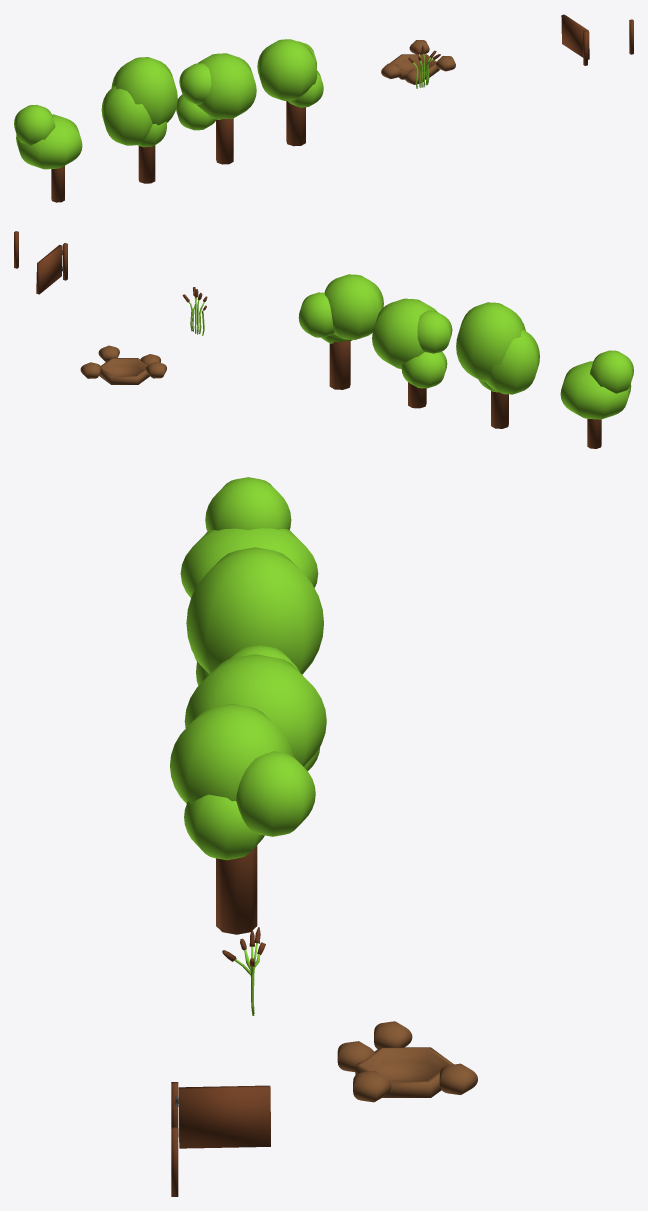
File: reed 1.fbx
3 views of the same model, one above another, from view 1: azimuth 30°, elevation 25°; view 2: azimuth 150°, elevation 25°; view 3: azimuth 270°, elevation 25° (orthographic). The views are drawn at different scales.
Visible parts, largest first — view 1: Tree3, Tree2, Tree1, Tree4, Hole, FenceDoor, Reed; view 2: Tree3, Tree2, Tree1, Tree4, Hole, FenceDoor, Reed; view 3: Tree1, Tree3, Tree2, Tree4, Hole, FenceDoor.
Boxes of the visible parts, x1,y1,x2,y2 form: Tree3: [101, 57, 177, 183]; Tree2: [176, 53, 256, 164]; Tree1: [257, 39, 323, 146]; Tree4: [14, 104, 82, 202]; Hole: [381, 40, 455, 84]; FenceDoor: [561, 14, 633, 65]; Reed: [408, 45, 440, 88]; Tree3: [456, 302, 539, 428]; Tree2: [372, 298, 452, 408]; Tree1: [298, 274, 383, 389]; Tree4: [560, 350, 633, 448]; Hole: [80, 345, 166, 384]; FenceDoor: [14, 231, 67, 294]; Reed: [182, 287, 207, 335]; Tree1: [170, 703, 315, 934]; Tree3: [186, 547, 323, 685]; Tree2: [184, 645, 326, 770]; Tree4: [180, 477, 318, 597]; Hole: [337, 1021, 477, 1102]; FenceDoor: [171, 1082, 270, 1196].
Size of the model in its own units: 4071 by 753 by 908.
